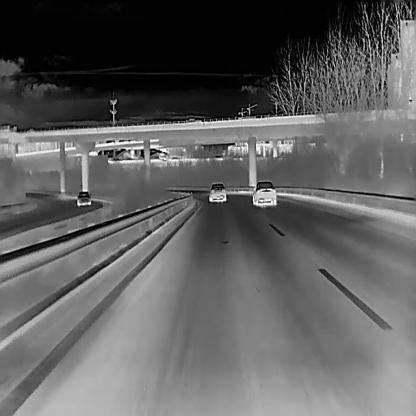car: (251, 180, 276, 205), (208, 182, 226, 201), (75, 190, 91, 206)
